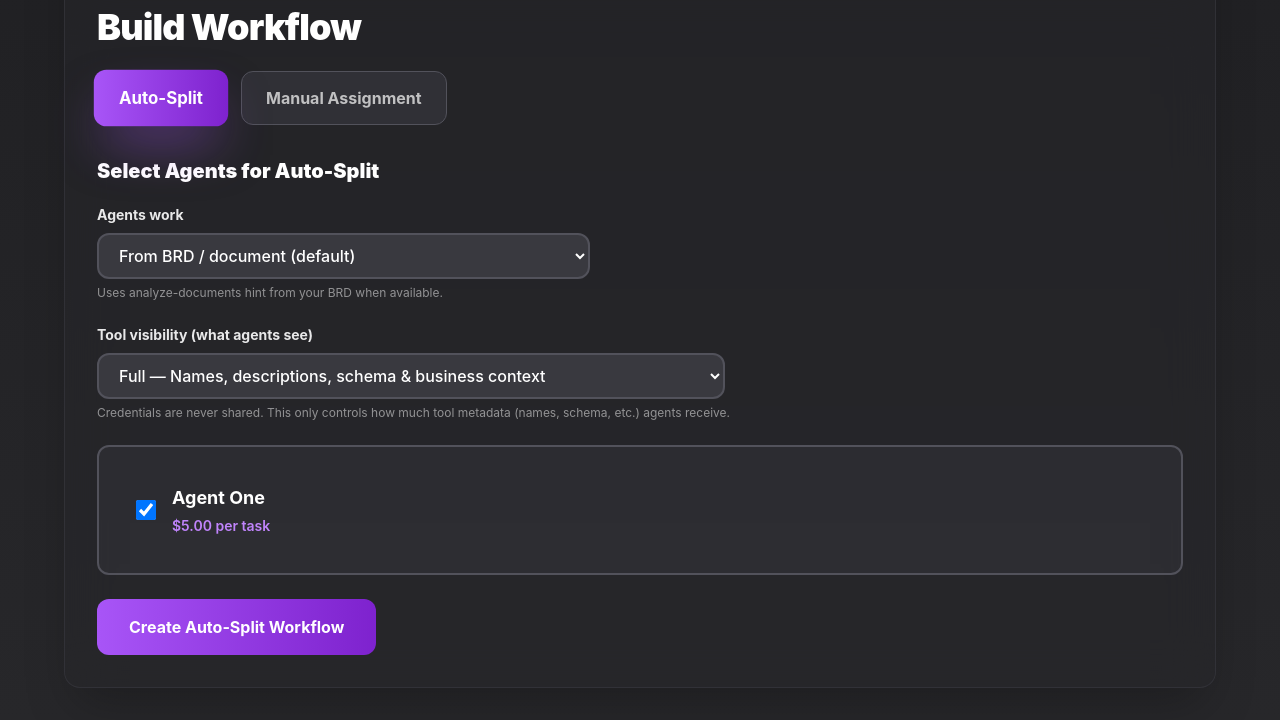
it: Job detail workflow tool visibility (integration) › Build Workflow → None → Create Auto-Split → Edit tools shows None in modal
(page scrolled)
Expected: the heading "Build Workflow" is shown, [97,4,361,48]
Select "None — No tool list; agents cannot use MCP tools for this job" in the dropdown below "Tool visibility (what agents see)". click: (411, 376)
box: [97,352,725,398]
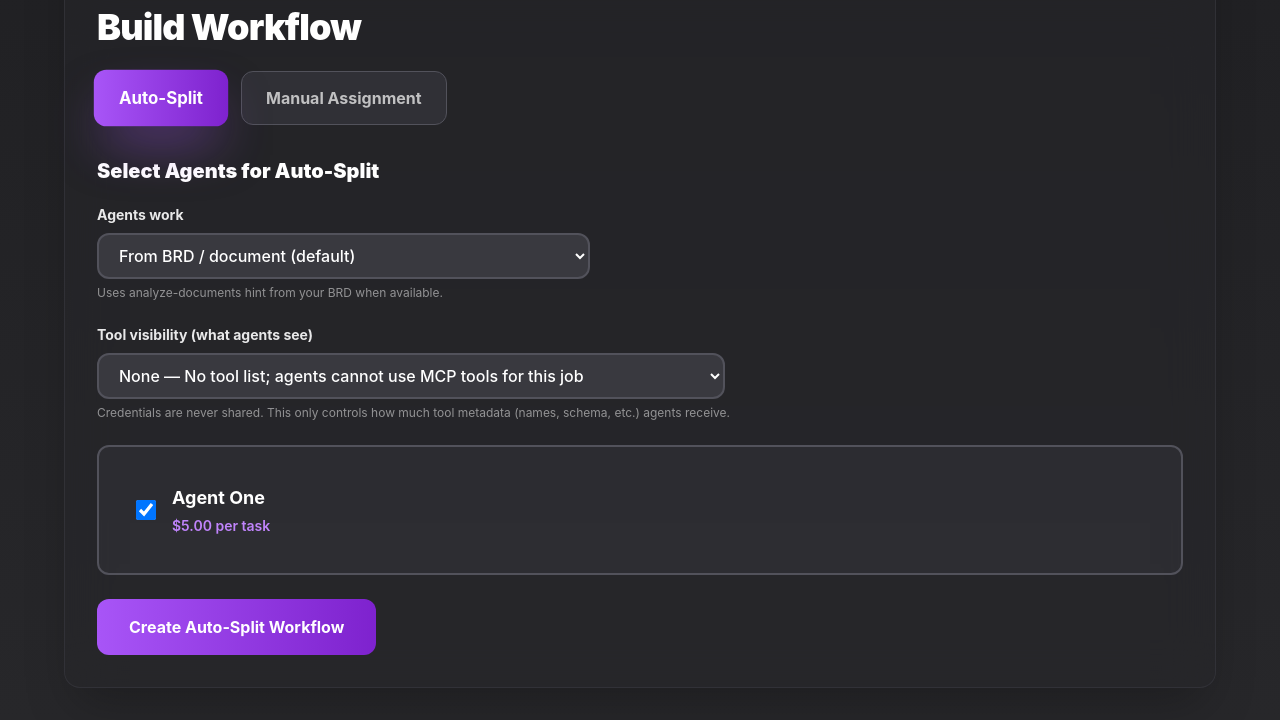
Click the button "Create Auto-Split Workflow". click: click(237, 626)
box: [97,598,376,654]
(page scrolled)
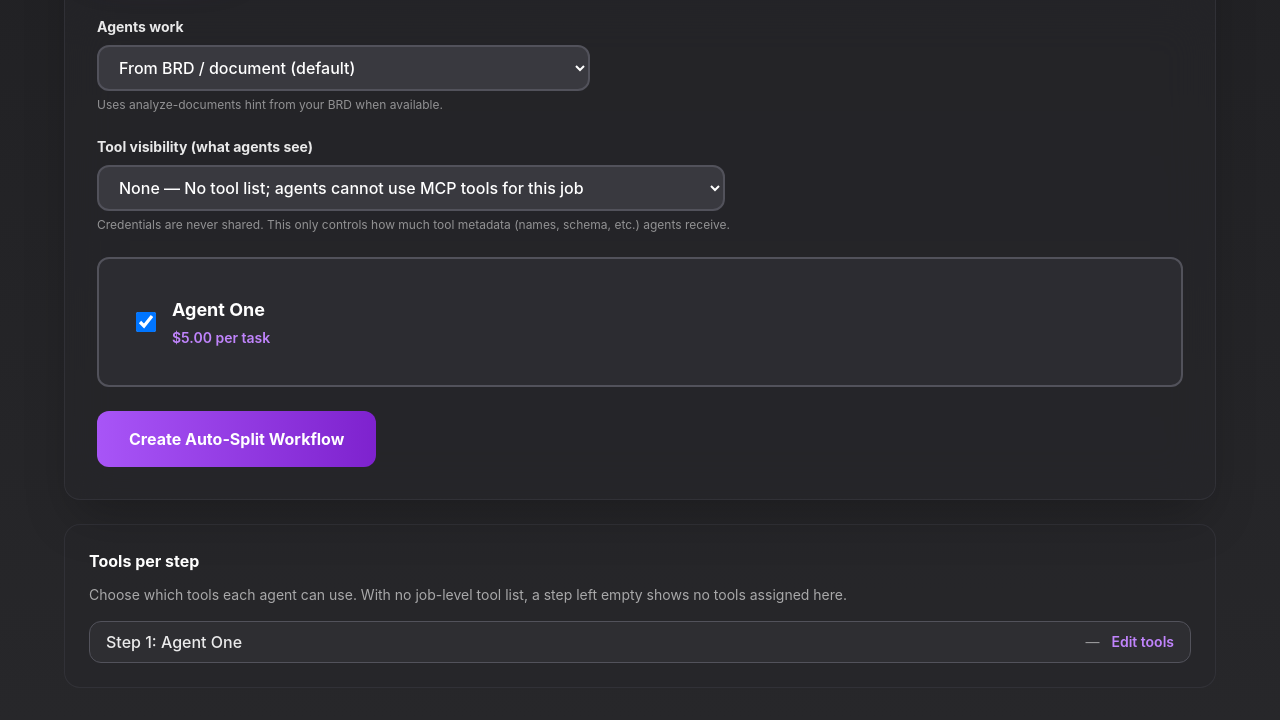
Expected: the button "Edit tools" is shown
Click the button "Edit tools". click: click(1143, 642)
box: [1111,632,1174,652]
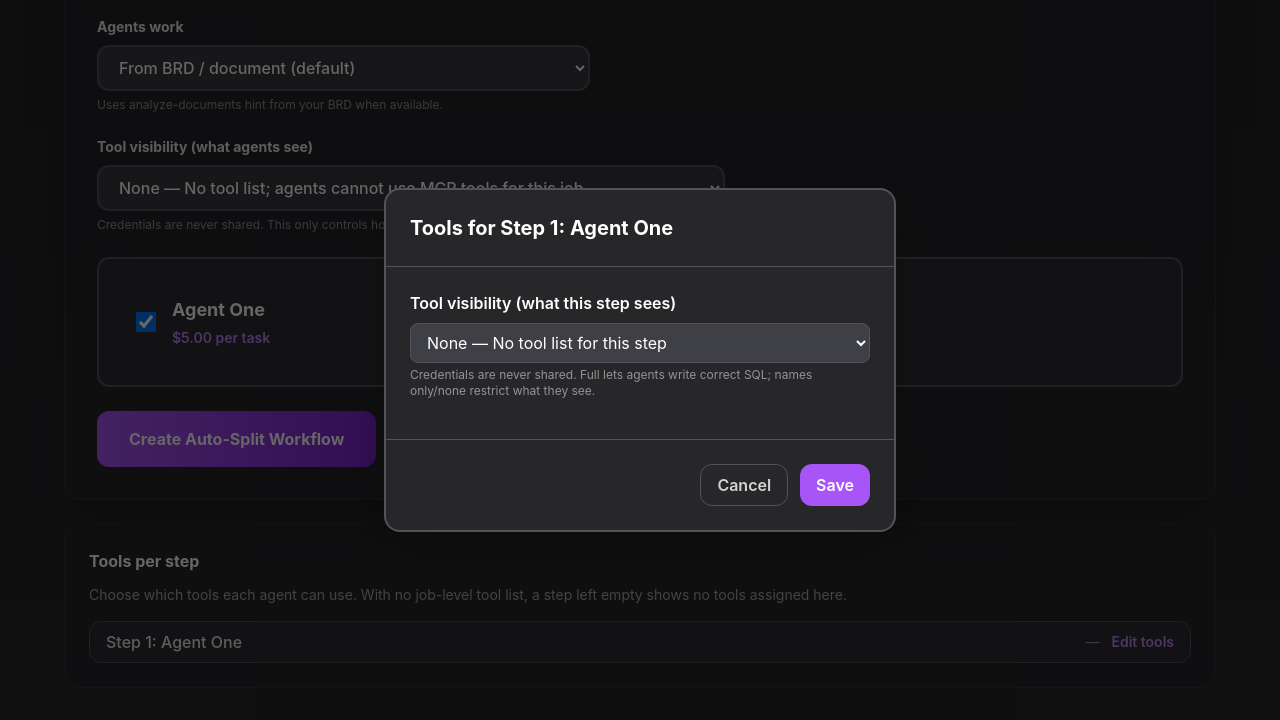
Expected: the heading "Tools for Step 1: Agent One" is shown, [410,216,673,240]
Expected: the dropdown shows "None — No tool list for this step", [410,323,870,363]
